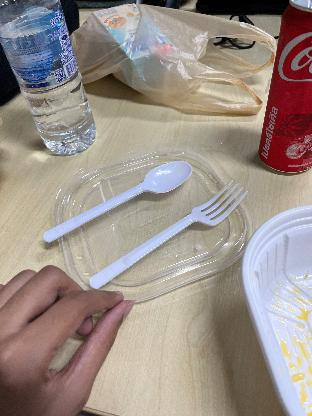Others: (89, 180, 250, 298), (43, 147, 198, 245)
Plastic Bottle: (0, 0, 98, 152)
